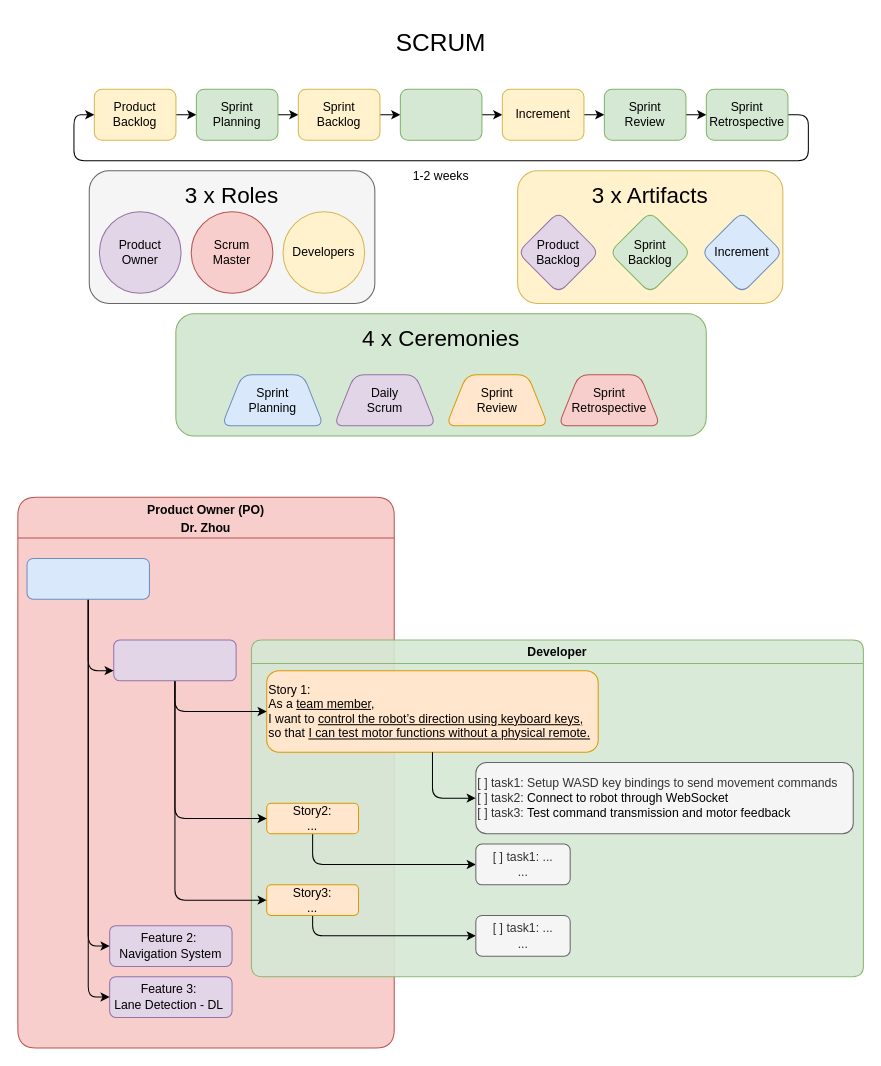
Some shapes in this 881 by 1066 pixel diagram are drawn without their labels. The centre of each missing label's shape, as x and y in pixels:
Epic: Robot System: the point at 87,578
Feature 1: Remote Control: the point at 174,660
Sprint: the point at 440,114
